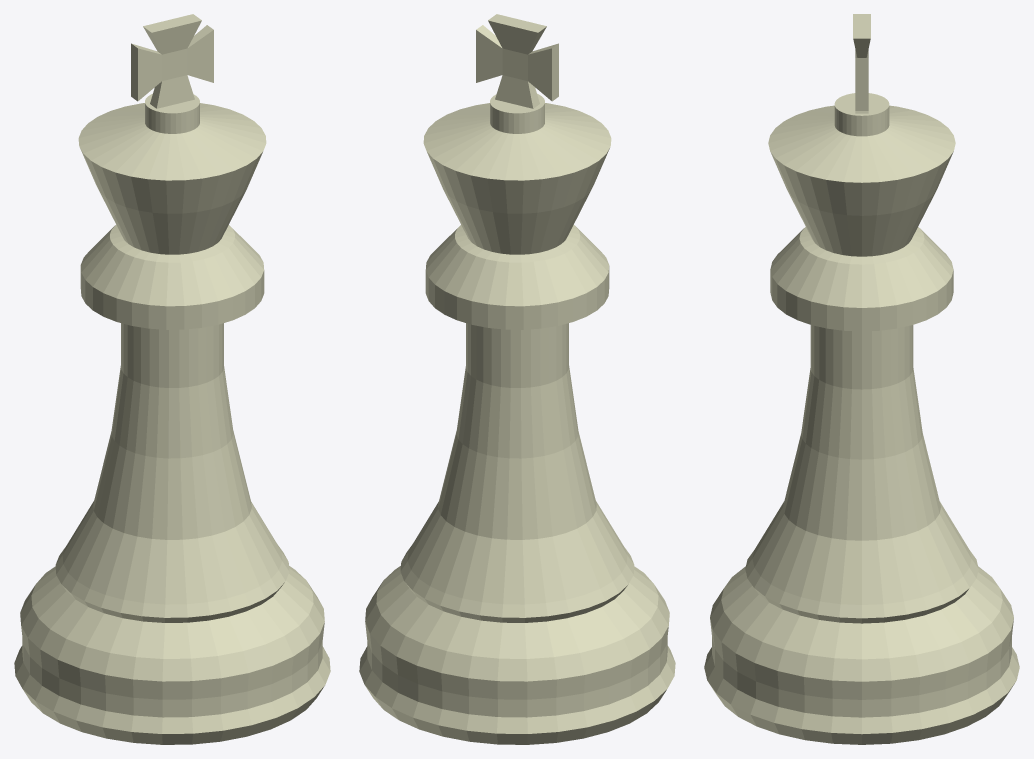
The model's file is king.gltf.
3 views of the same model, side by side, from view 1: azimuth 30°, elevation 25°; view 2: azimuth 150°, elevation 25°; view 3: azimuth 270°, elevation 25° (orthographic).
Visible parts, largest first — view 1: Circle; view 2: Circle; view 3: Circle.
Part boxes in pixels (box(x1,y1,x2,y2)): Circle: box(14, 14, 330, 744); Circle: box(359, 14, 675, 744); Circle: box(704, 14, 1019, 744).
Bounding box in the file's own units: 1.84 × 4.22 × 1.84.
